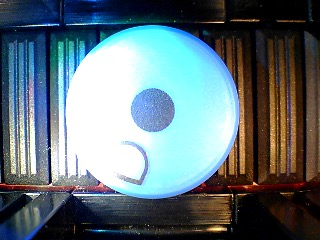BOHOMIPO1: (64, 24, 240, 200)
